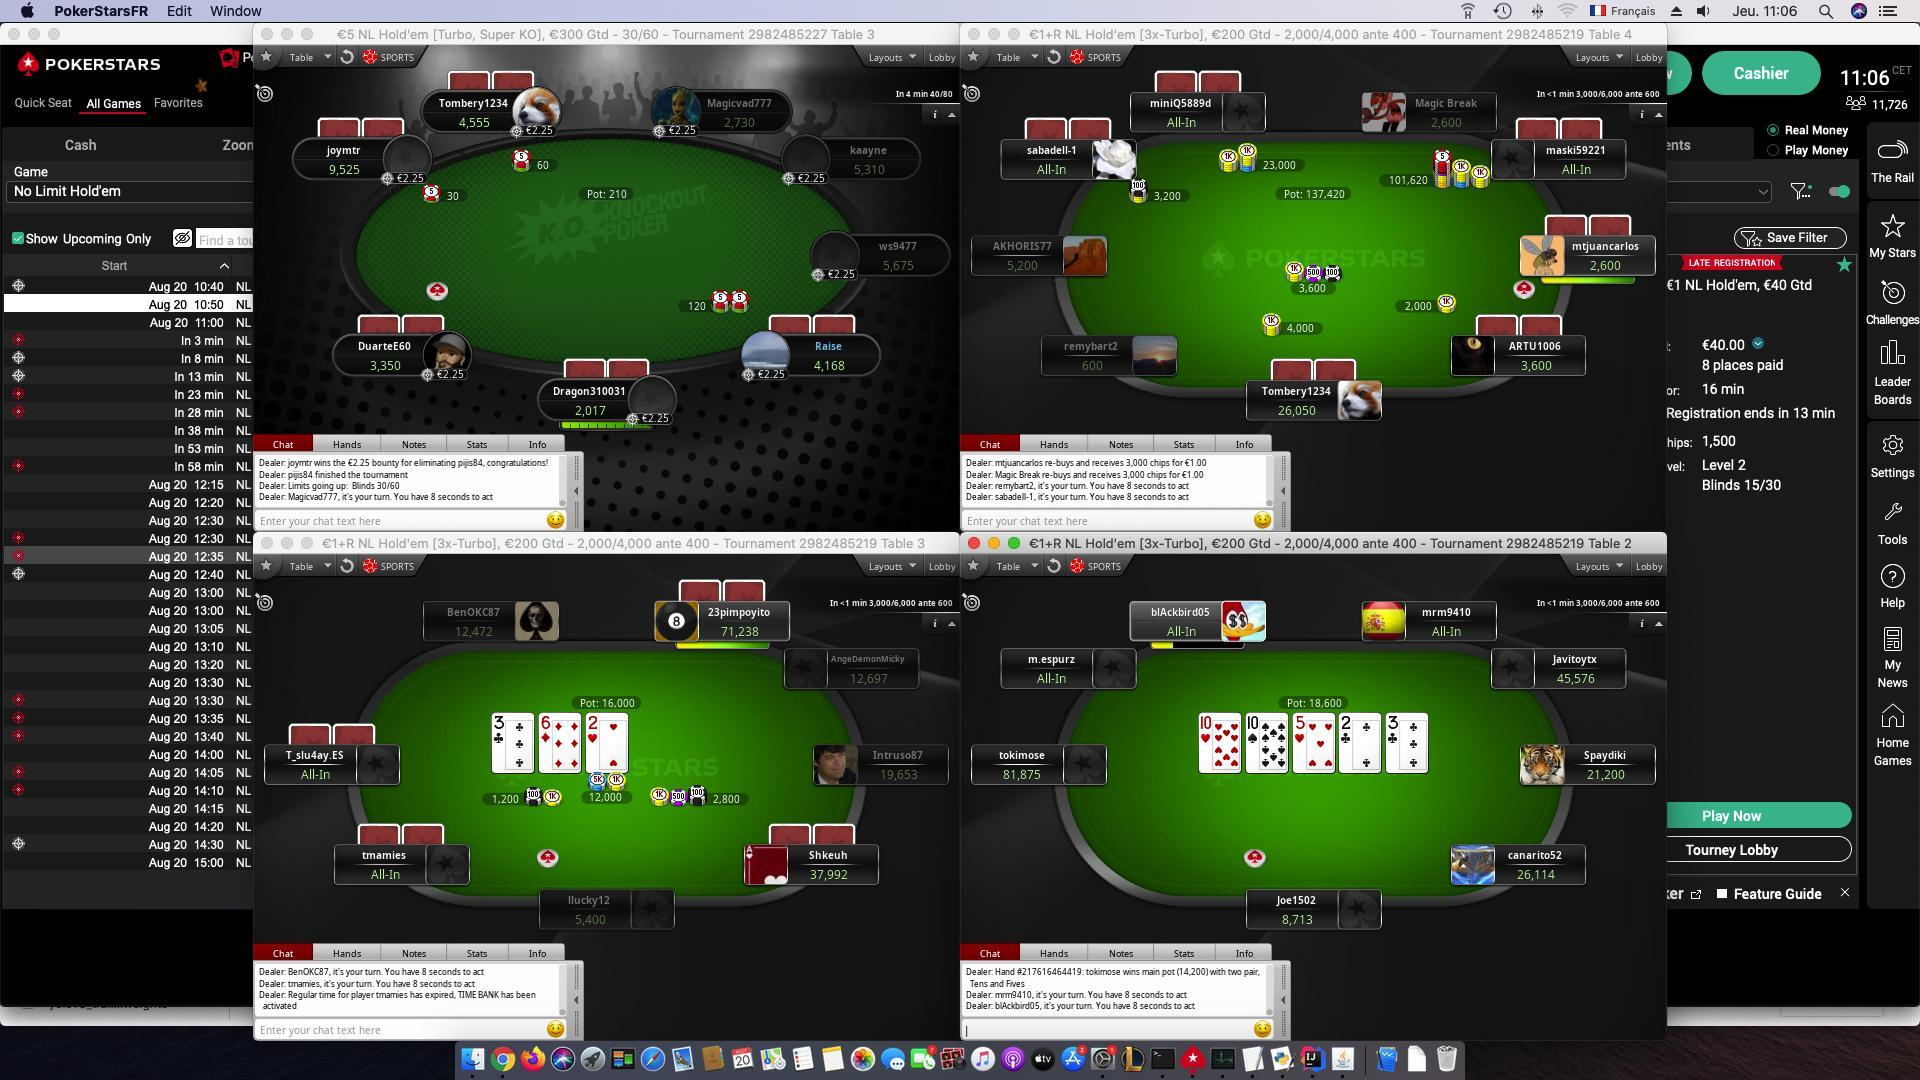10H: (1196, 708, 1216, 746)
10S: (1242, 709, 1263, 745)
2C: (1337, 715, 1356, 748)
2H: (582, 713, 601, 746)
3C: (491, 711, 506, 752), (1382, 713, 1400, 745)
5H: (1290, 712, 1307, 744)
6D: (537, 709, 556, 746)
